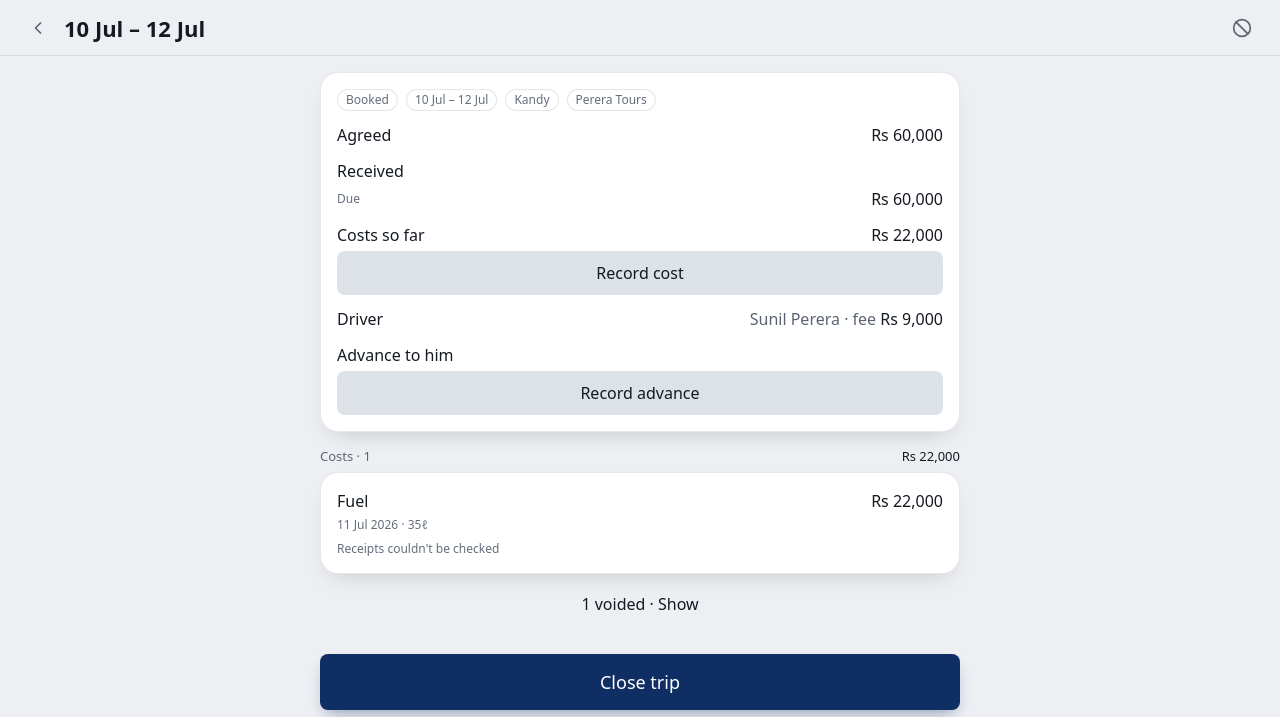
Test case: renders the trip's agreed amount, costs so far (voided excluded), and driver fee
The image size is (1280, 717).
expect the text "Kandy" is shown: met, box [505,89,558,111]
expect the text "Perera Tours" is shown: met, box [566,89,656,111]
Click the button "1 voided · Show": coordinates (640, 604) [320,582,960,626]
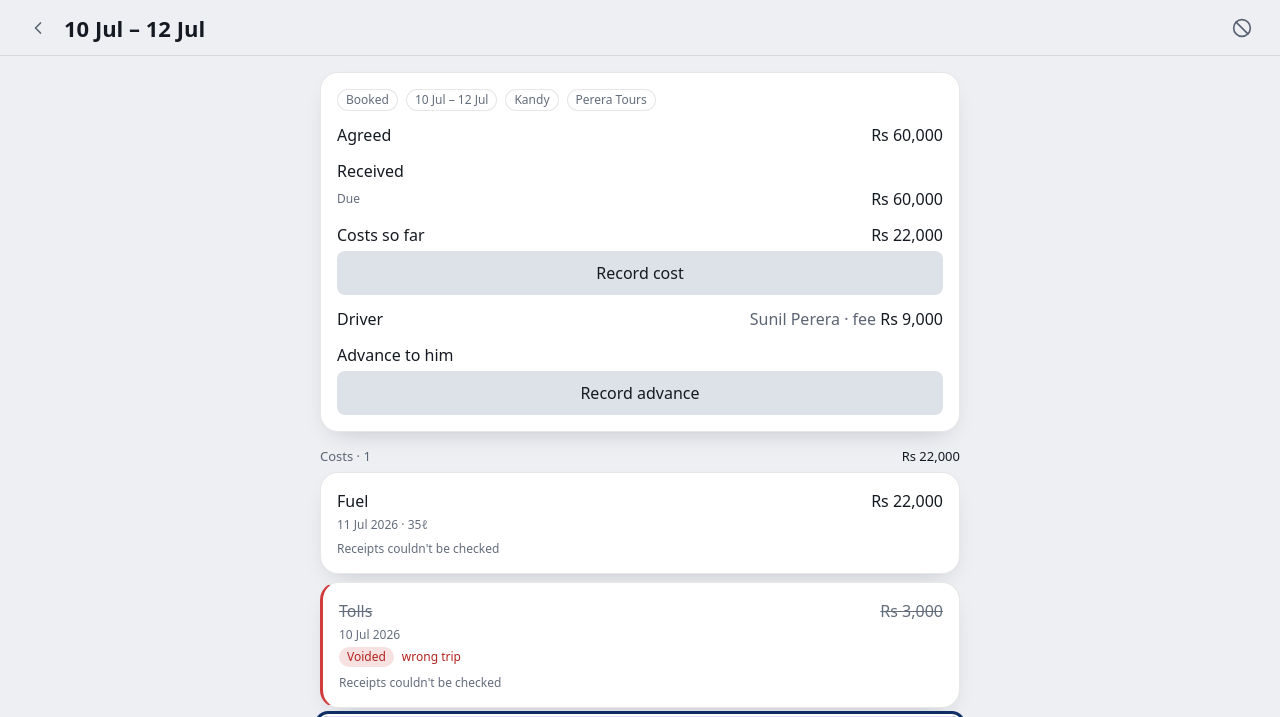
expect the text "Voided" is shown: met, box [339,647,394,667]
expect the text "wrong trip" is shown: met, box [402,649,461,665]
